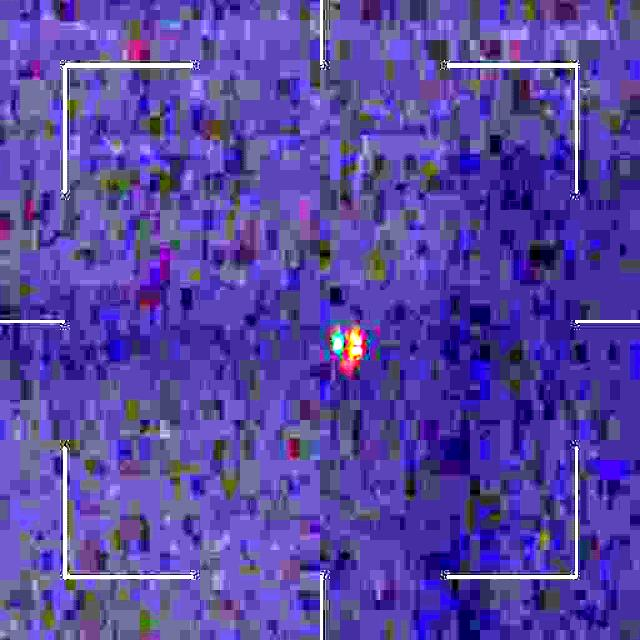bird: (331, 326, 362, 365)
